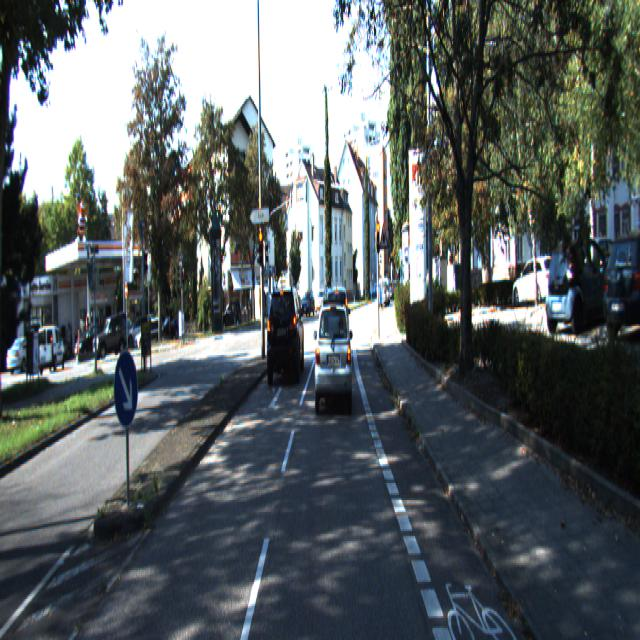Car: (546, 233, 628, 334), (597, 227, 640, 343), (314, 304, 352, 416), (266, 288, 304, 386), (324, 287, 350, 367)
